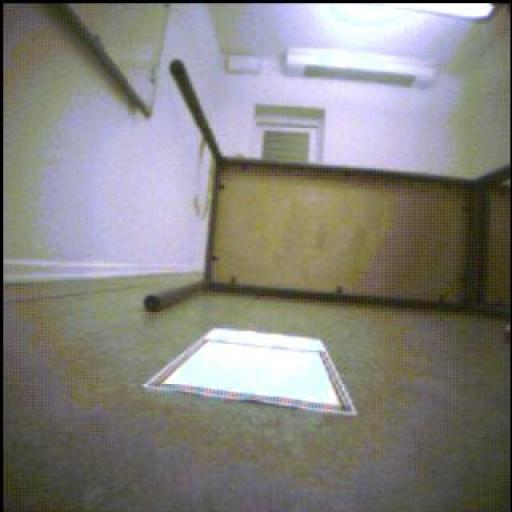Pad: (145, 329, 358, 417)
